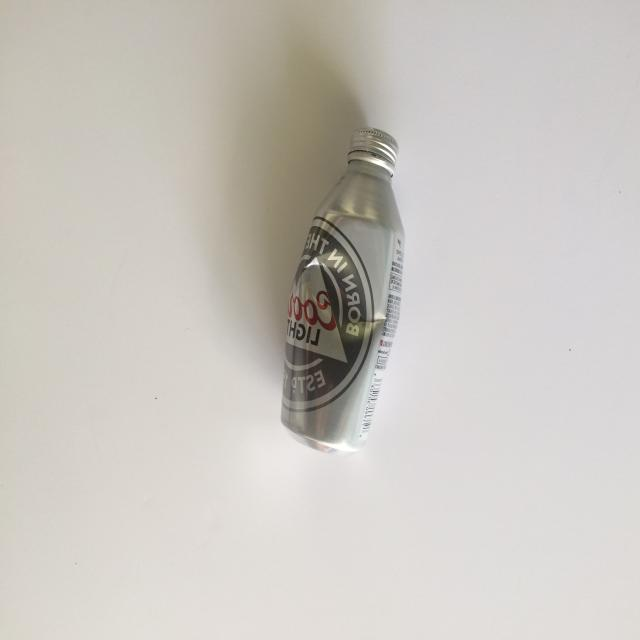metal: (280, 126, 406, 453)
